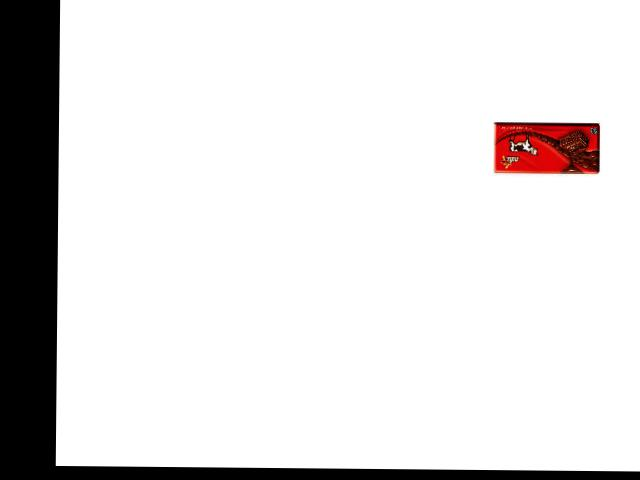chocolate: (503, 131, 603, 184)
